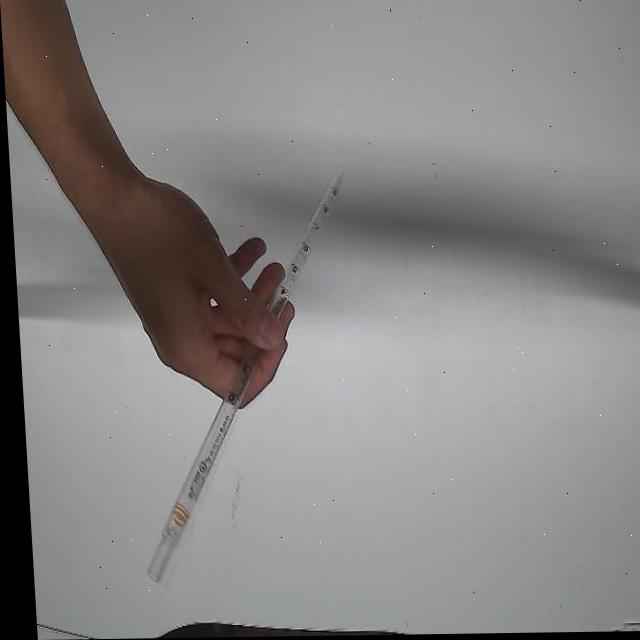Serelogical Pipet 10 mL: (119, 147, 373, 587)
